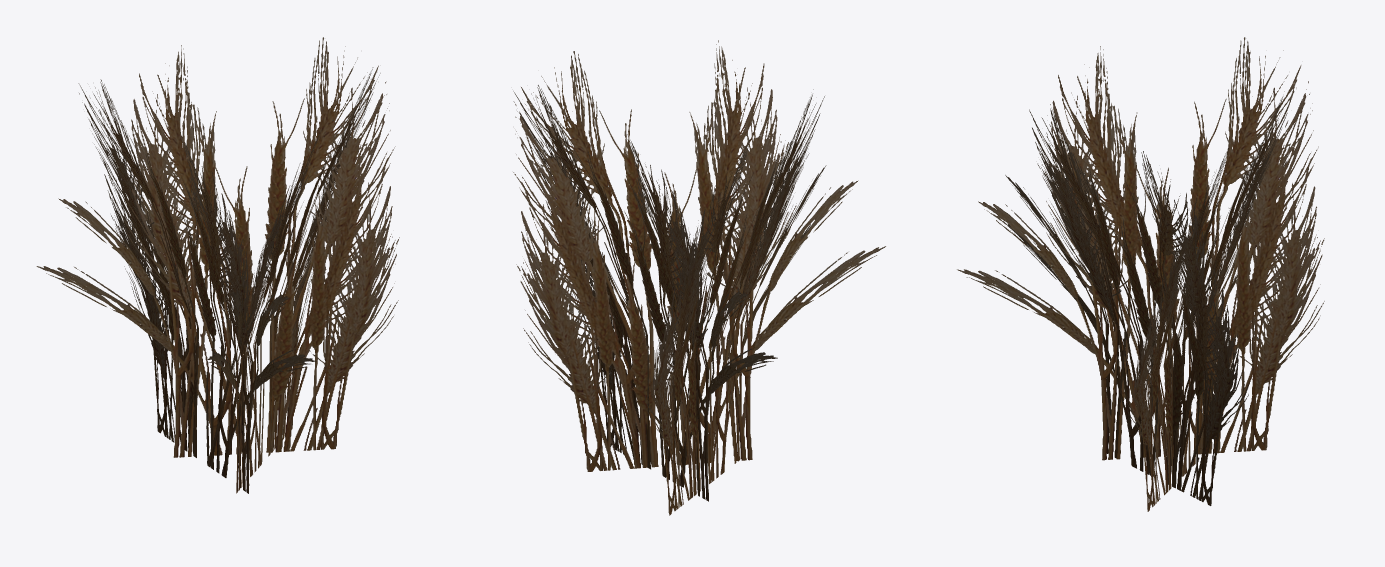
The model's file is wheat_1_1.obj.
3 renders of one model, left to right at view 1: azimuth 30°, elevation 25°; view 2: azimuth 150°, elevation 25°; view 3: azimuth 270°, elevation 25°, orthographic. The views are drawn at different scales.
Visible parts, largest first — view 1: wheat_1_1; view 2: wheat_1_1; view 3: wheat_1_1.
Part boxes in pixels (x1,y1,x2,y2): wheat_1_1: (36,37,399,493); wheat_1_1: (513,40,885,515); wheat_1_1: (957,37,1324,511).
Bounding box in the file's own units: 1.18 × 1.25 × 1.22.
